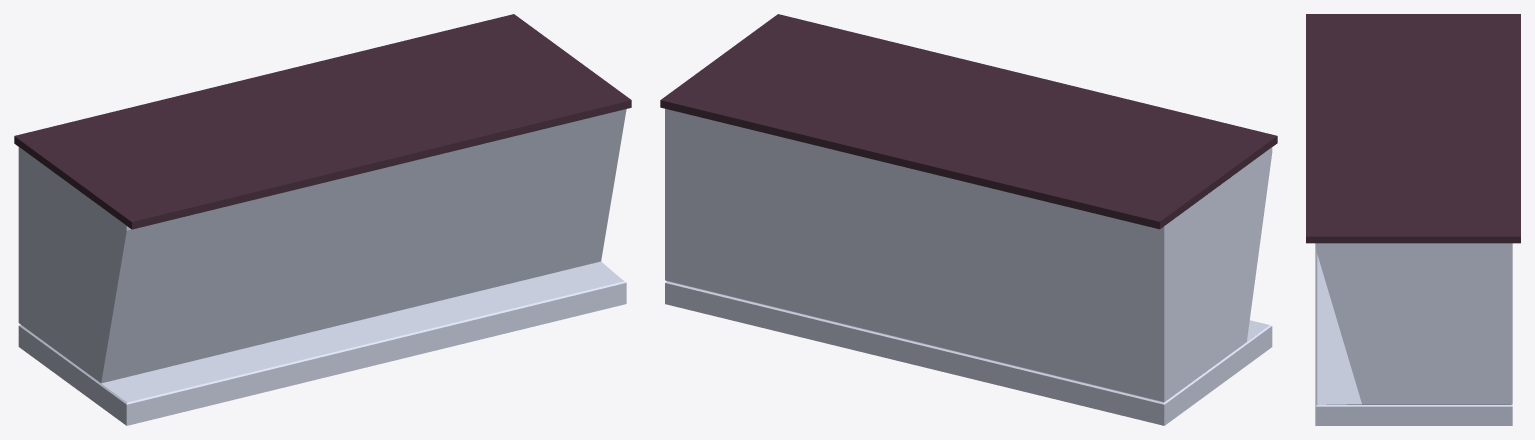
File: SM_counter_02.fbx
The picture shows the model from 3 angles, left to right: view 1: azimuth 30°, elevation 25°; view 2: azimuth 150°, elevation 25°; view 3: azimuth 270°, elevation 25°; orthographic projection. The views are drawn at different scales.
Parts seen in each view (by area): view 1: counter_02; view 2: counter_02; view 3: counter_02.
Boxes of the visible parts, x1,y1,x2,y2 form: counter_02: [14, 14, 631, 425]; counter_02: [660, 14, 1277, 425]; counter_02: [1306, 14, 1520, 425].
Size of the model in its own units: 142 by 56.18 by 57.74.
